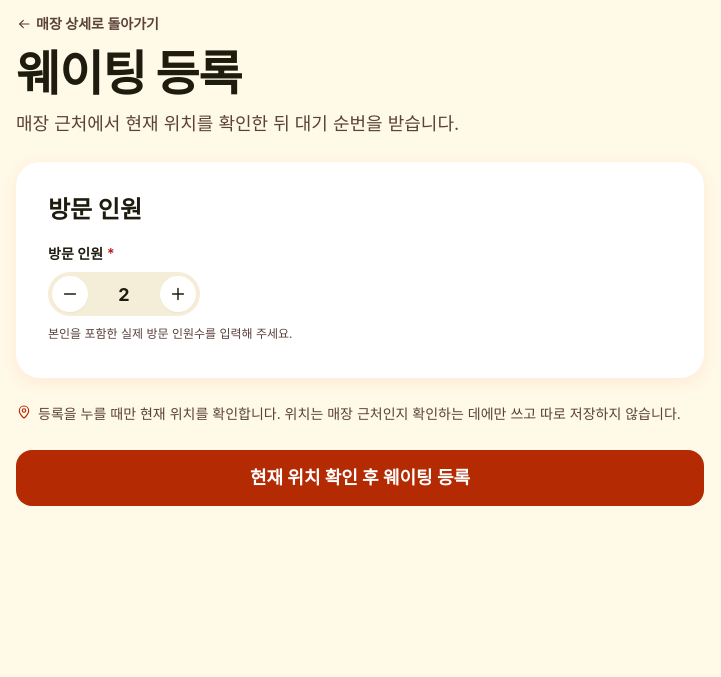
Scenario: 소비자 웨이팅 등록 API 연결 › 입력을 바꾼 새 등록은 위치를 다시 측정하고 새 멱등 키를 발급한다
Click the button "현재 위치 확인 후 웨이팅 등록" at (360, 478), box [16,450,704,506]
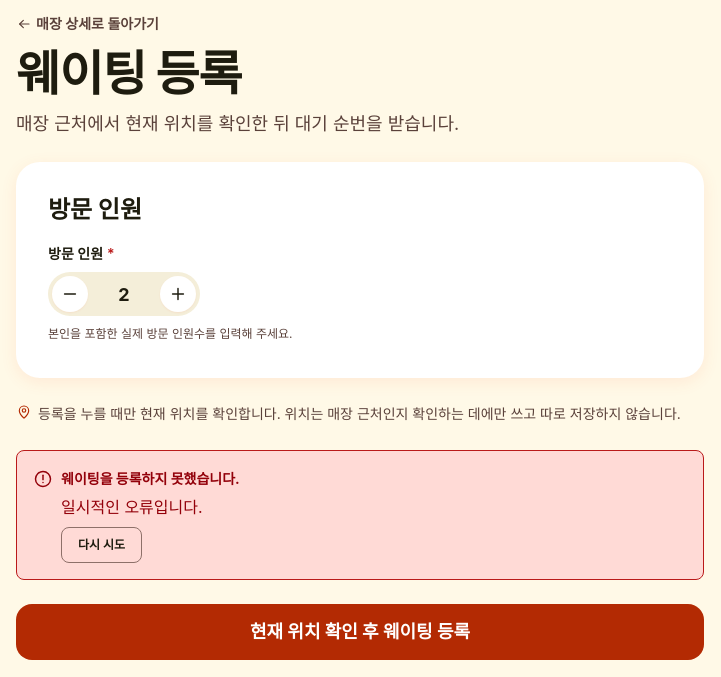
Check: the button "다시 시도" is shown, box [61,527,142,563]
Click the button named "인원 늘리기" at (178, 294), box [160,276,196,312]
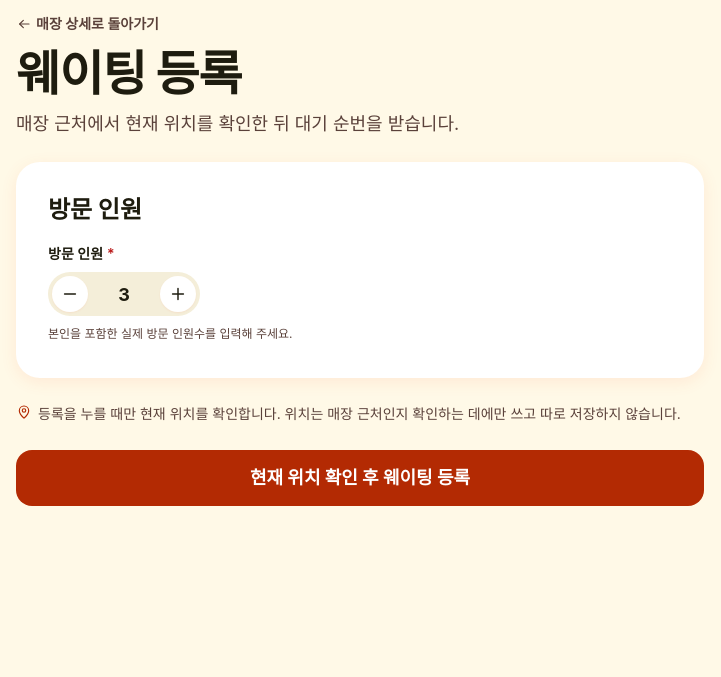
Click the button "현재 위치 확인 후 웨이팅 등록" at (360, 478), box [16,450,704,506]
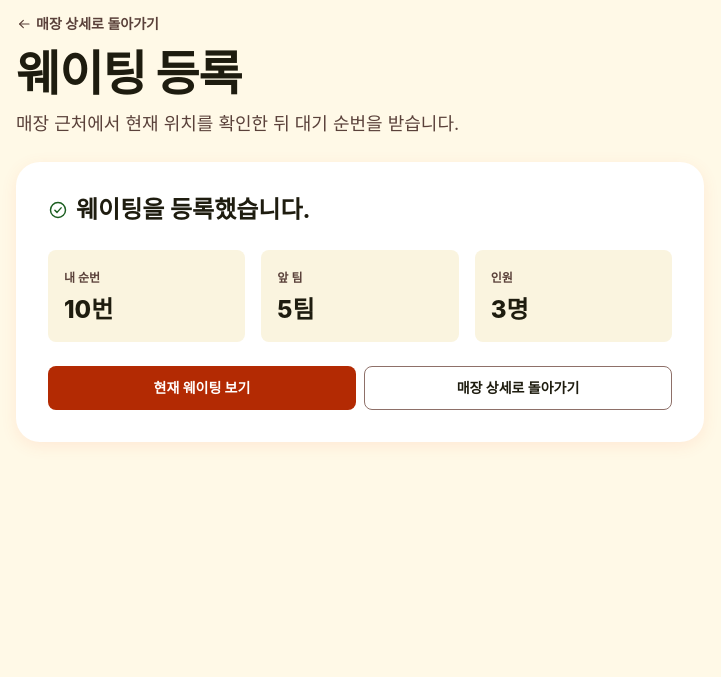
Check: the text "10번" is shown, box [64,295,113,324]
